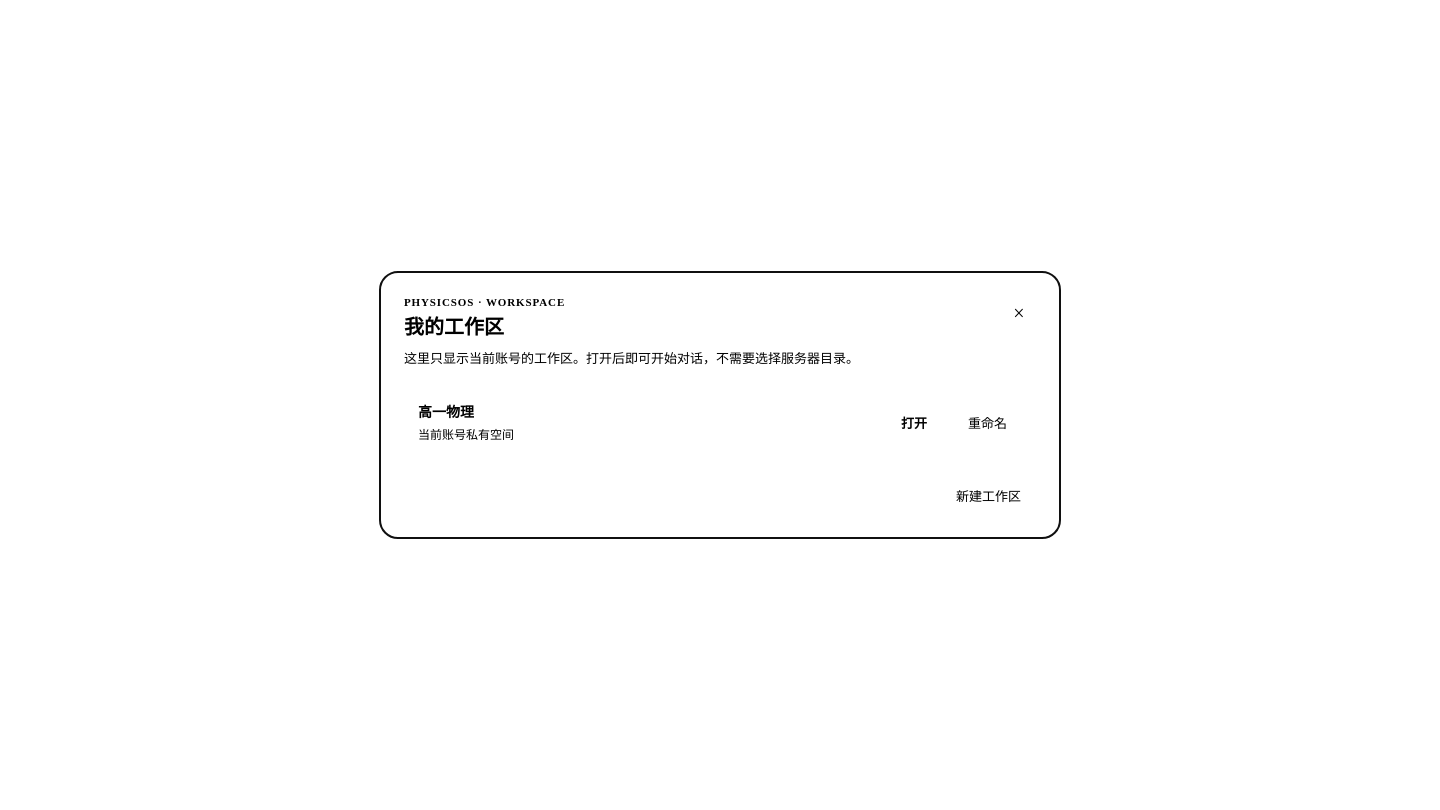
it: WorkspacePanel › reports the account failure instead of hiding it
Click the button "新建工作区" at (988, 495), box [941,476,1036,514]
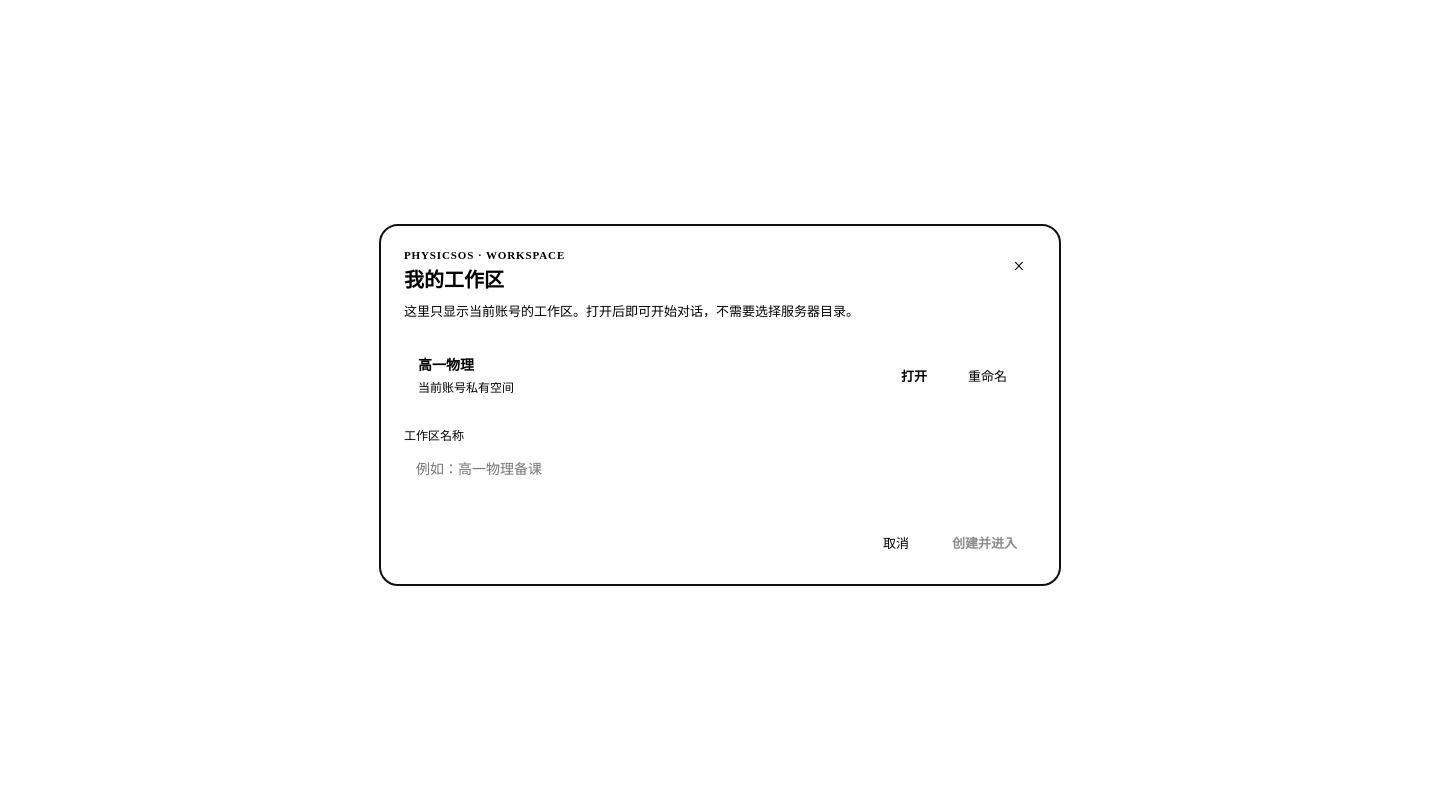
Type "第三个" into the field with placeholder "例如：高一物理备课" at (720, 470), box [404,451,1036,489]
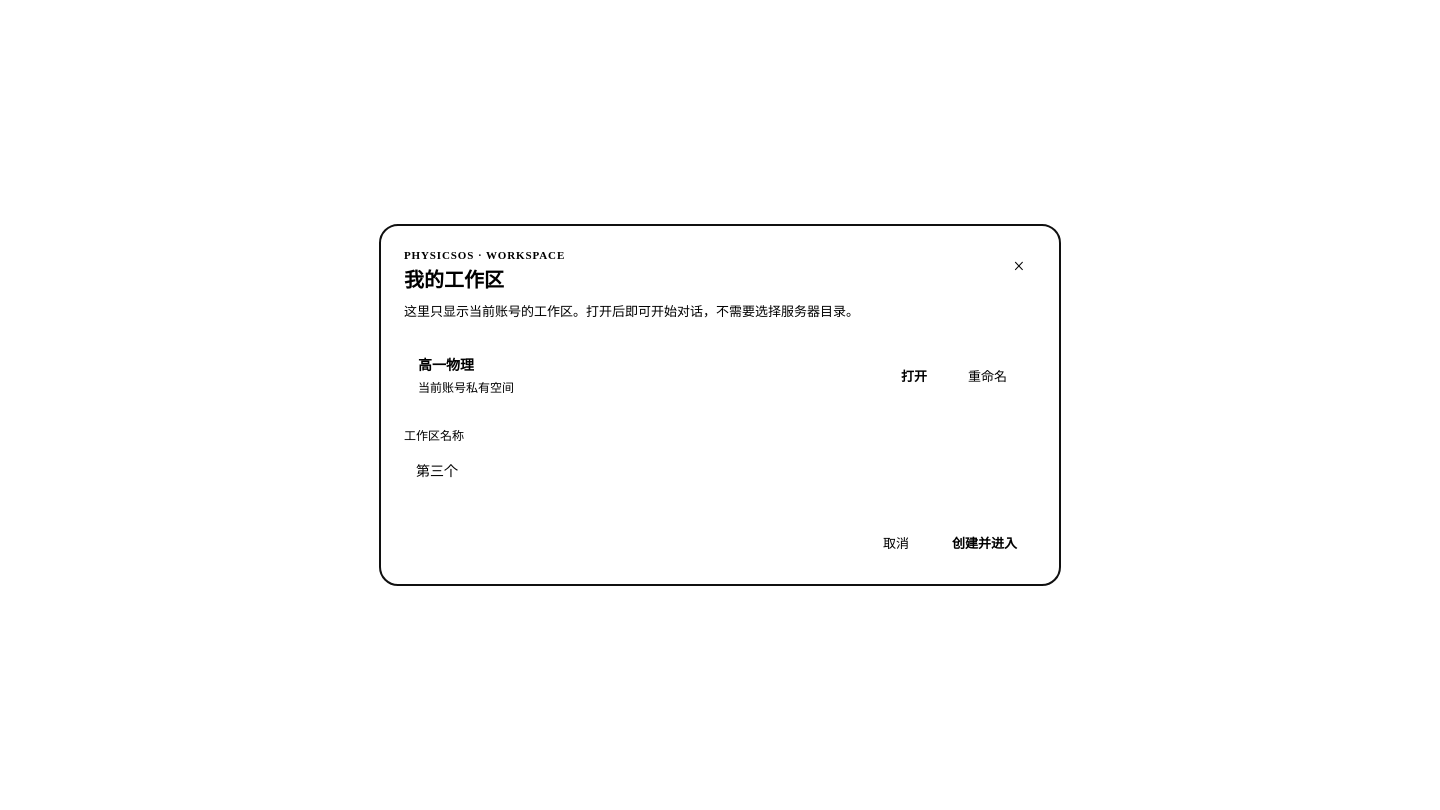
Click the button "创建并进入" at (984, 542), box [933,523,1036,561]
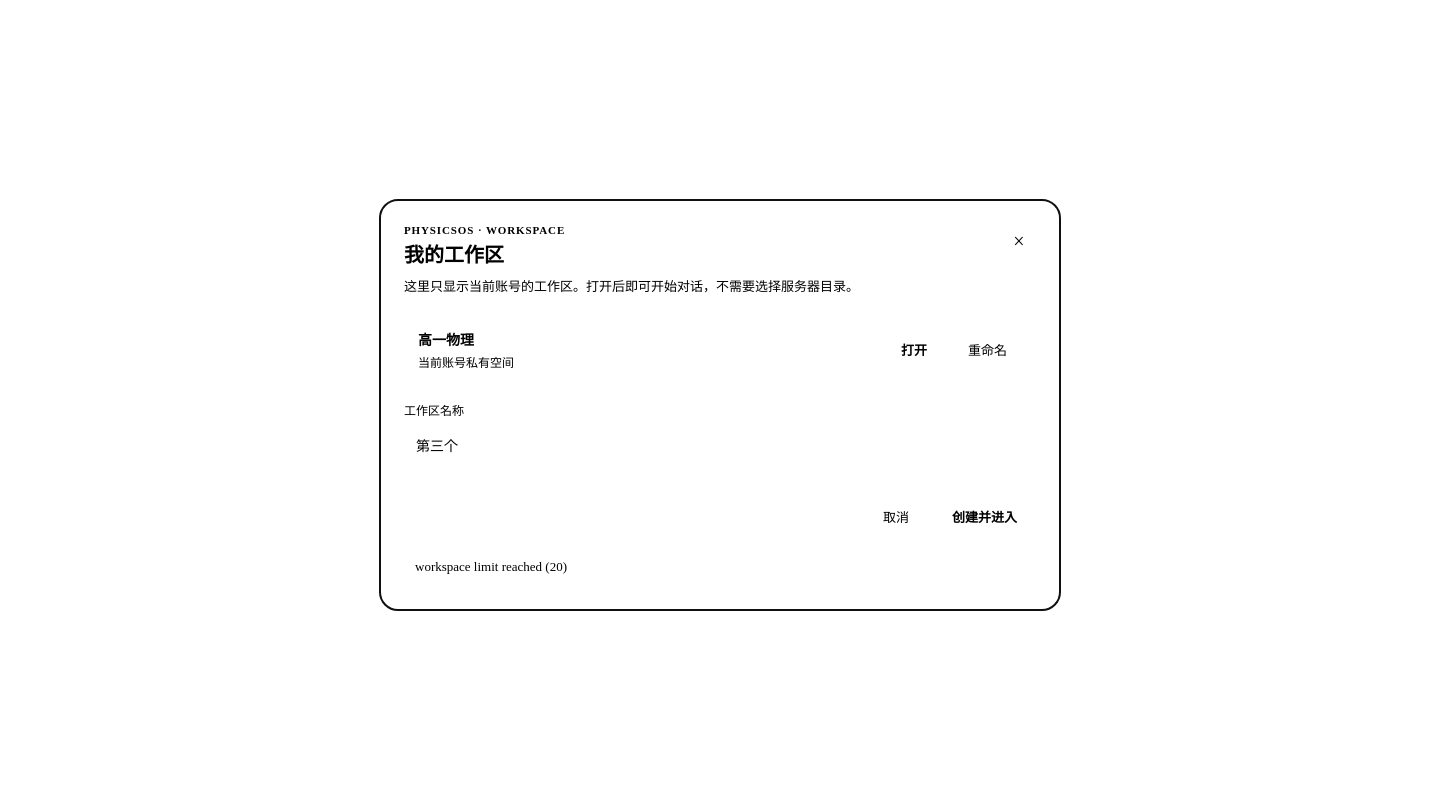
Check: the text "workspace limit reached (20)" is shown, box [415,559,567,574]
